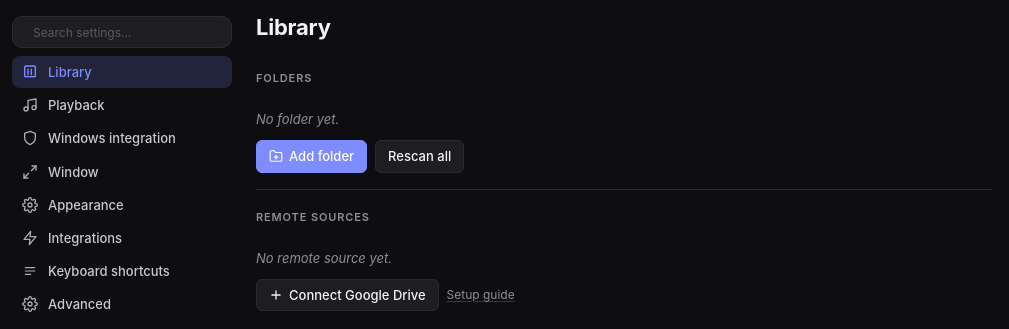
Test: Settings → Integrations — Cover_Upload opt-in (R8.1) › le toggle « Upload covers » est non coché par défaut (discordCoverUpload=false)
Click the button "Integrations" at (122, 238), box top-left (12, 222), bottom-right (232, 254)
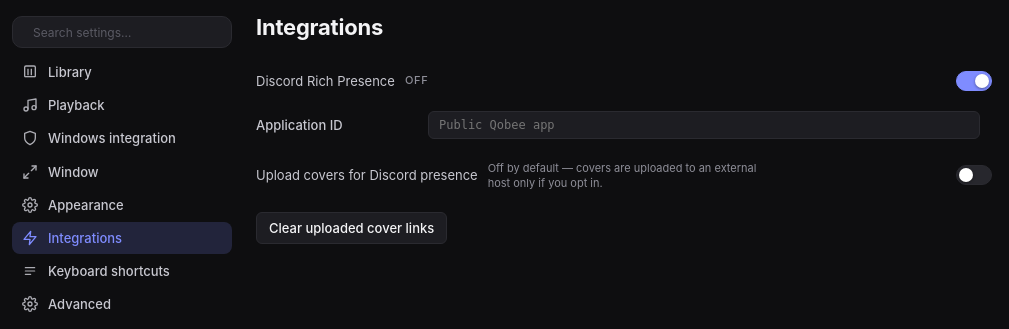
Check: the checkbox in the row of "Upload covers for Discord presence" is not checked, box top-left (956, 165), bottom-right (992, 185)
